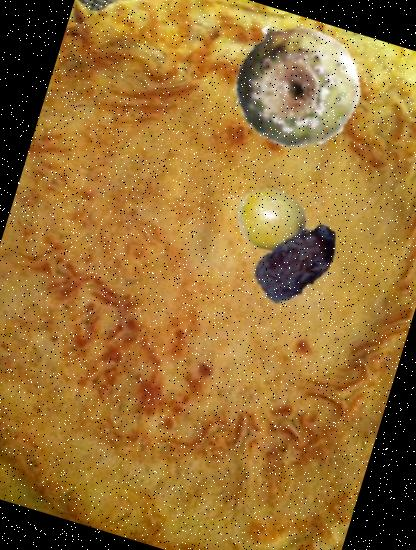Cactus: (214, 4, 376, 165)
Dates: (238, 201, 357, 320)
Maracuja: (227, 176, 317, 265)
